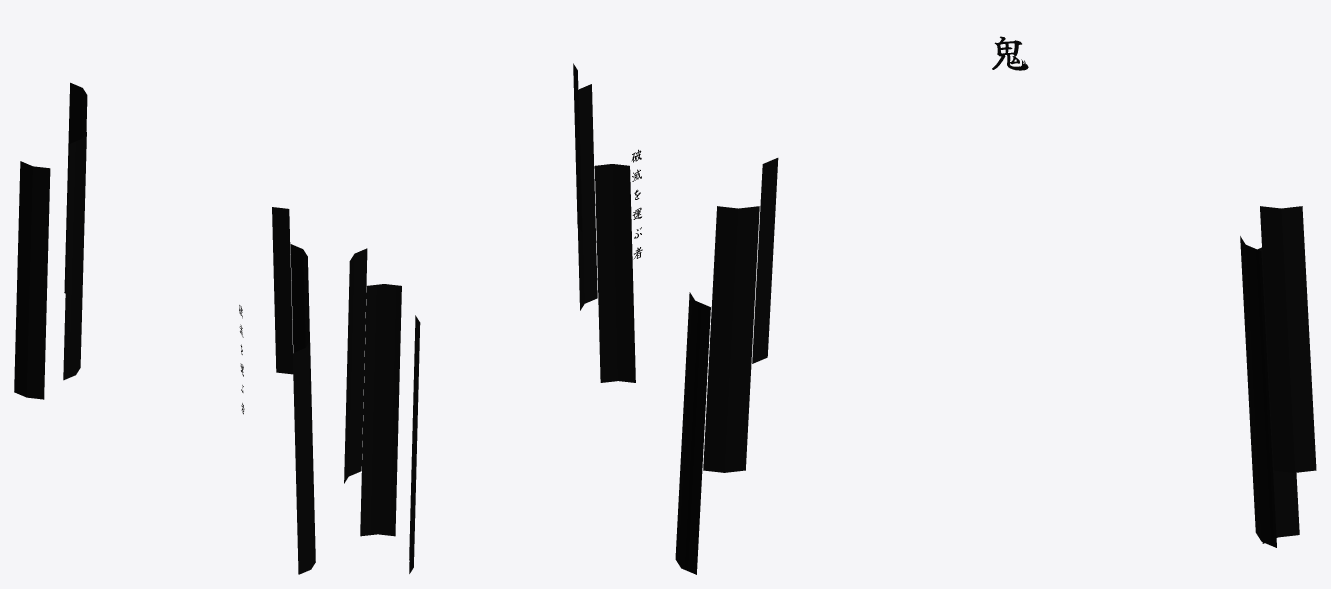
File: Beleidigungen Tori 2.fbx
3 views of the same model, side by side, from view 1: azimuth 30°, elevation 25°; view 2: azimuth 150°, elevation 25°; view 3: azimuth 270°, elevation 25° (orthographic). The views are drawn at different scales.
Visible parts, largest first — view 1: Cylinder.031, Cylinder.020, Cylinder.029, Cylinder.028, Cylinder.018, Cylinder.023; view 2: Cylinder.020, Cylinder.029, Cylinder.023, Cylinder.018, Cylinder.031, Cylinder.028; view 3: Cylinder.018, Cylinder.023, Cylinder.020, Cylinder.029, Cylinder.028, Cylinder.031.
Part boxes in pixels (x1,y1,x2,y2): Cylinder.031: [14, 161, 50, 399]; Cylinder.020: [63, 132, 86, 380]; Cylinder.029: [292, 341, 315, 574]; Cylinder.028: [272, 207, 293, 374]; Cylinder.018: [290, 244, 309, 352]; Cylinder.023: [64, 82, 87, 293]; Cylinder.020: [360, 284, 401, 536]; Cylinder.029: [594, 164, 635, 382]; Cylinder.023: [344, 248, 367, 483]; Cylinder.018: [577, 84, 597, 310]; Cylinder.031: [409, 315, 420, 573]; Cylinder.028: [573, 63, 582, 232]; Cylinder.018: [703, 206, 759, 472]; Cylinder.023: [1260, 206, 1316, 472]; Cylinder.020: [1240, 236, 1276, 547]; Cylinder.029: [675, 292, 710, 574]; Cylinder.028: [752, 158, 778, 363]; Cylinder.031: [1257, 247, 1299, 543].
Size of the model in its own units: 1.23 by 8.64 by 9.08.
Materials: 8 (8 with a texture image).
